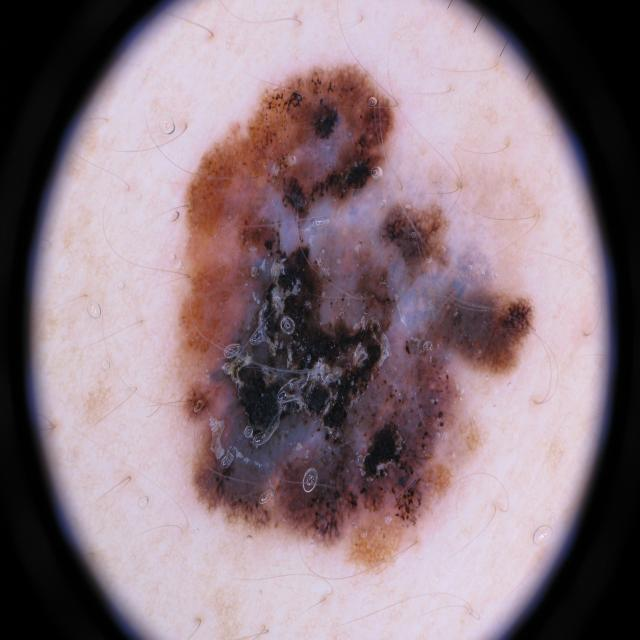Melanoma: (176, 61, 532, 556)
